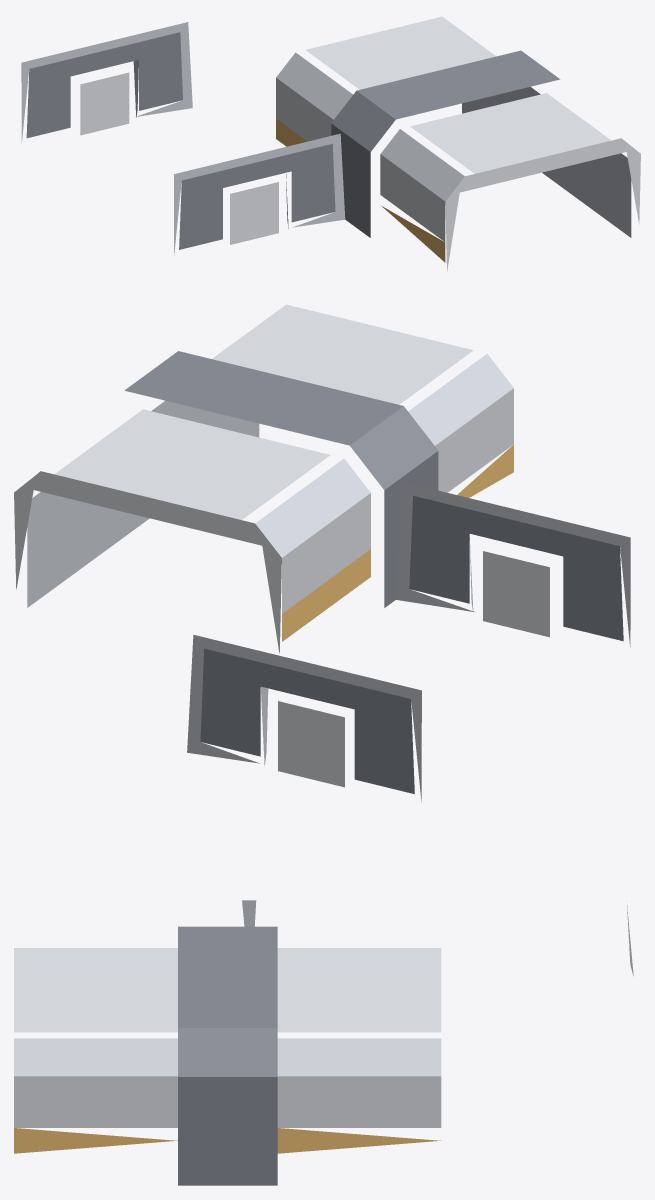
Rendered from hangar_largeB_lod1.glb.
3 views of the same model, one above another, from view 1: azimuth 30°, elevation 25°; view 2: azimuth 150°, elevation 25°; view 3: azimuth 270°, elevation 25° (orthographic). The views are drawn at different scales.
Visible parts, largest first — view 1: hangar_largeB.001, gate.008, gate.009; view 2: hangar_largeB.001, gate.008, gate.009; view 3: hangar_largeB.001.
Part boxes in pixels (bbox=[...]): hangar_largeB.001: bbox=[276, 16, 640, 271]; gate.008: bbox=[21, 22, 192, 143]; gate.009: bbox=[174, 133, 345, 255]; hangar_largeB.001: bbox=[14, 304, 513, 653]; gate.008: bbox=[187, 634, 421, 801]; gate.009: bbox=[396, 482, 630, 646]; hangar_largeB.001: bbox=[14, 926, 441, 1185].
Size of the model in its own units: 4 by 1.1 by 4.4.
